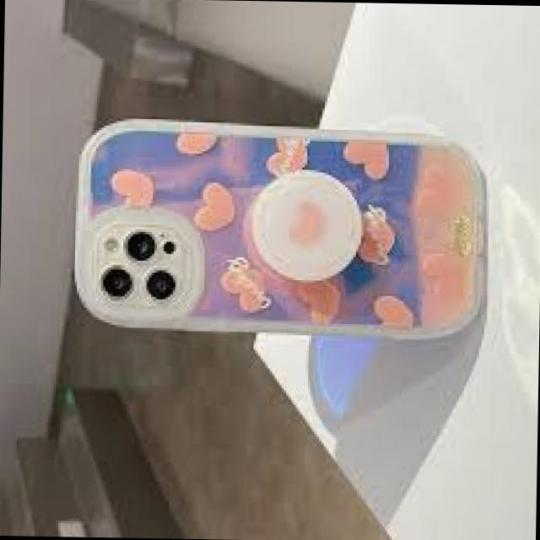phone: (74, 120, 486, 334)
